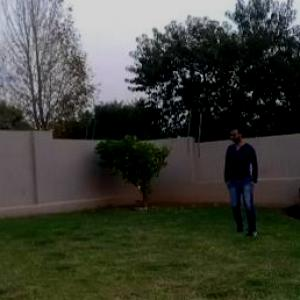follow: (223, 122, 262, 242)
